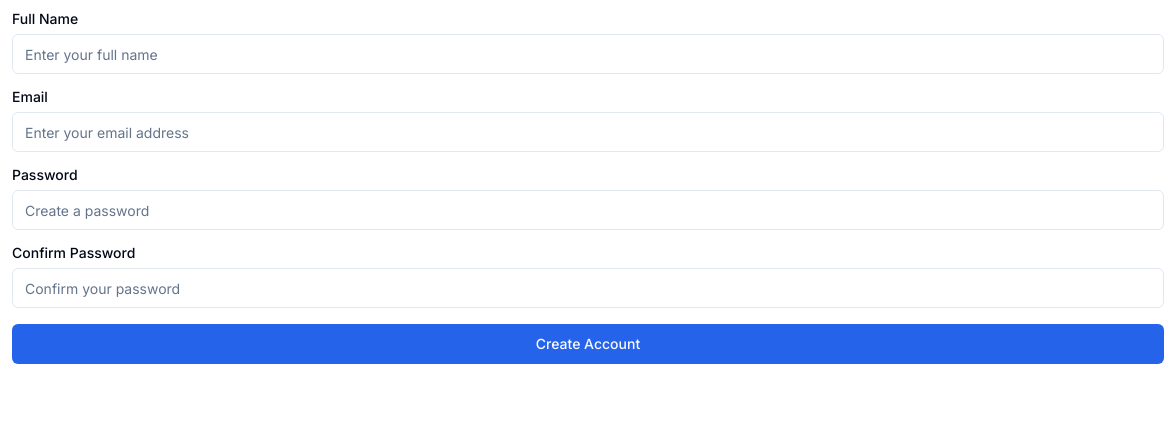
Test case: RegistrationForm › should submit form with valid data
Note: Fill form with valid data
Type "John Doe" into the field labelled "Full Name" at (588, 54), box [12,34,1164,74]
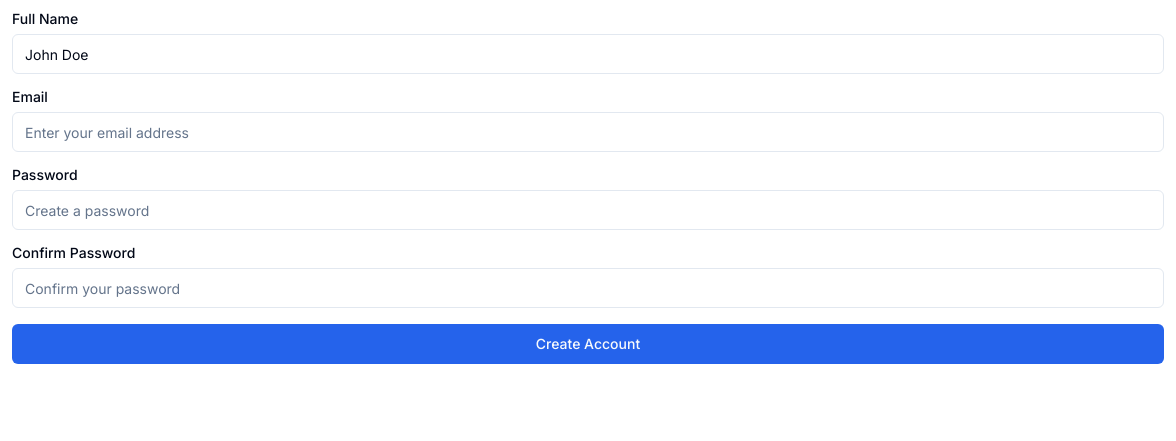
Type "john@example.com" into the field labelled "Email" at (588, 132), box [12,112,1164,152]
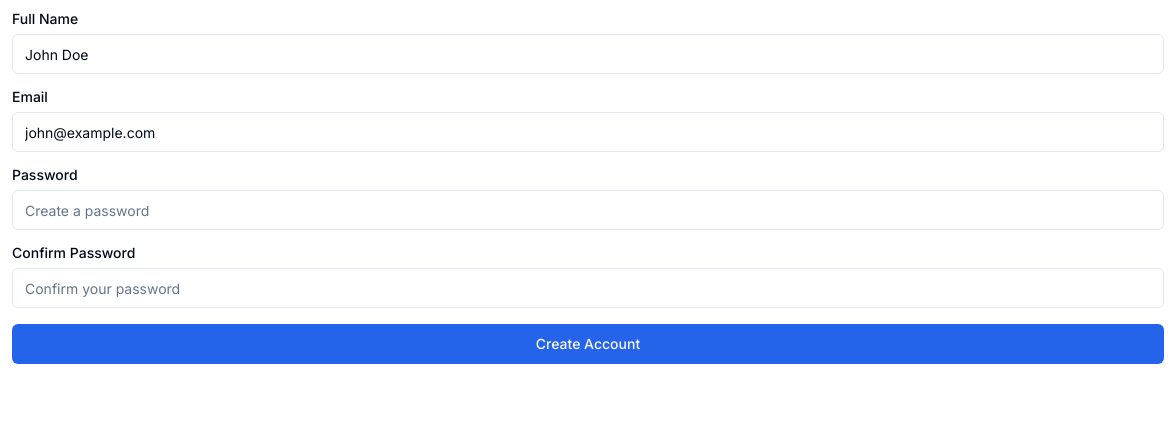
Type "StrongPass123" into the password field labelled "Password" at (588, 210), box [12,190,1164,230]
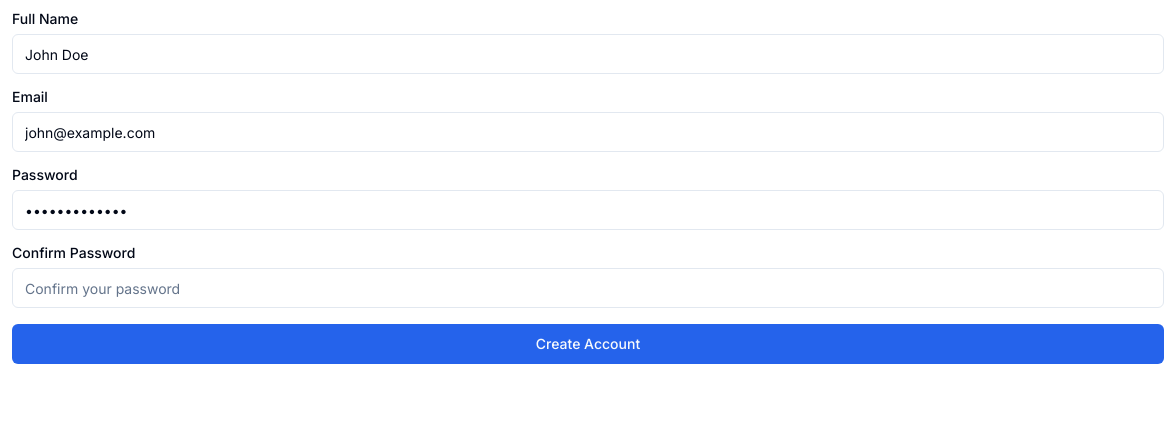
Type "StrongPass123" into the password field labelled "Confirm Password" at (588, 288), box [12,268,1164,308]
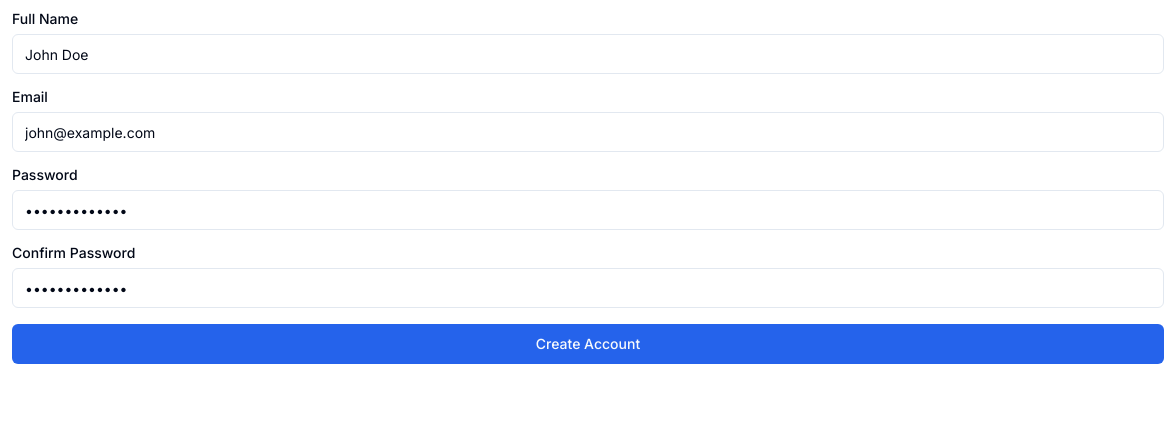
Click the button "Create Account" at (588, 344), box [12,324,1164,364]
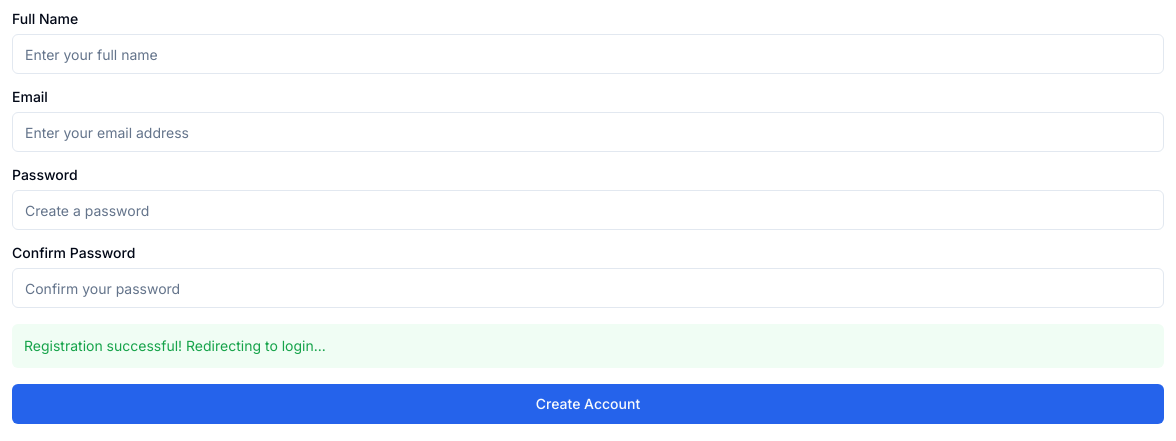
Expected: the text "Registration successful! Redirecting to login..." is shown, [12,324,1164,368]
